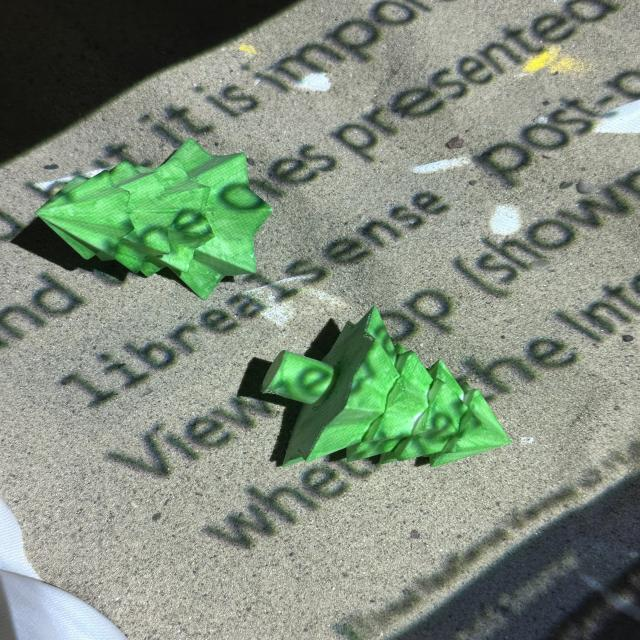tree: (259, 304, 512, 468), (34, 137, 274, 300)
